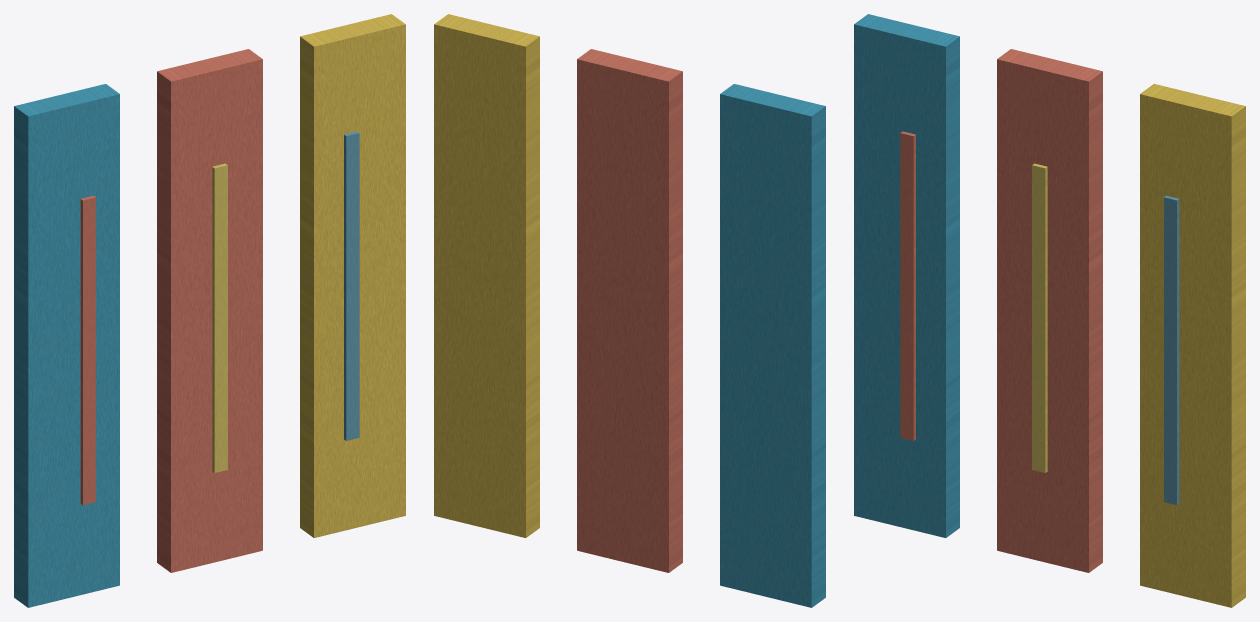
File: surfboards.glb
3 views of the same model, side by side, from view 1: azimuth 30°, elevation 25°; view 2: azimuth 150°, elevation 25°; view 3: azimuth 330°, elevation 25° (orthographic).
Parts seen in each view (by area): view 1: world, D0_board_coloured_streak_1, D0_board_coloured_streak_2, D0_board_coloured_streak_0; view 2: world; view 3: world, D0_board_coloured_streak_0, D0_board_coloured_streak_1, D0_board_coloured_streak_2.
Part boxes in pixels (<box>): world: <box>14,14,405,607</box>; D0_board_coloured_streak_1: <box>212,163,227,472</box>; D0_board_coloured_streak_2: <box>344,131,359,440</box>; D0_board_coloured_streak_0: <box>80,195,95,504</box>; world: <box>434,14,825,607</box>; world: <box>854,14,1245,607</box>; D0_board_coloured_streak_0: <box>900,131,915,440</box>; D0_board_coloured_streak_1: <box>1032,163,1047,472</box>; D0_board_coloured_streak_2: <box>1164,195,1179,504</box>.
Size of the model in its own units: 1.85 by 2.3 by 0.155.
6 materials, 6 textured.
